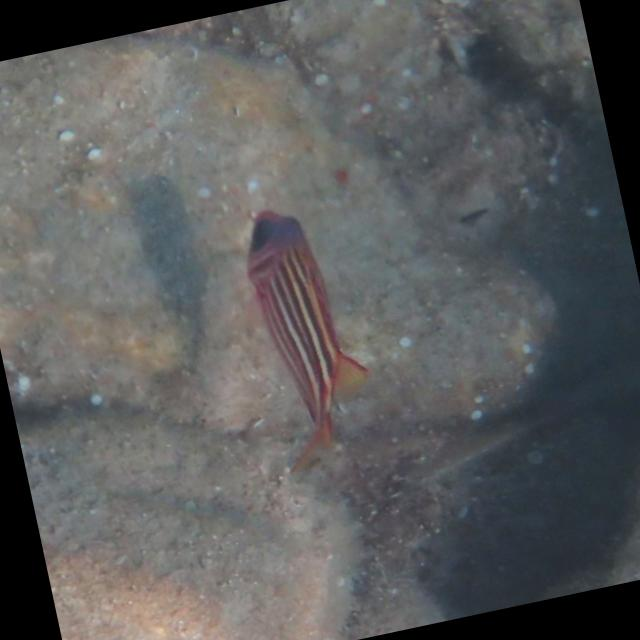Asker Baligi: (229, 193, 389, 478)
